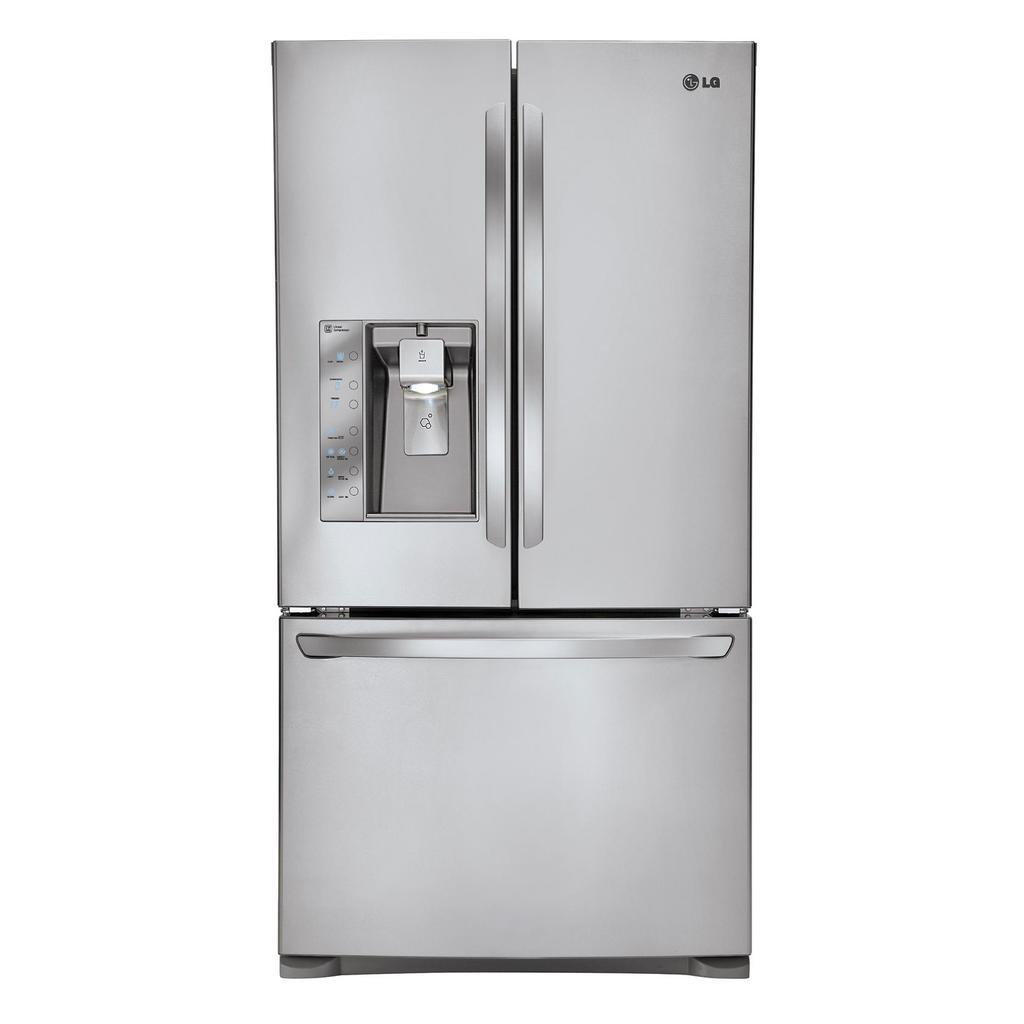handle: (298, 623, 732, 671), (476, 92, 516, 538), (519, 98, 547, 542)
